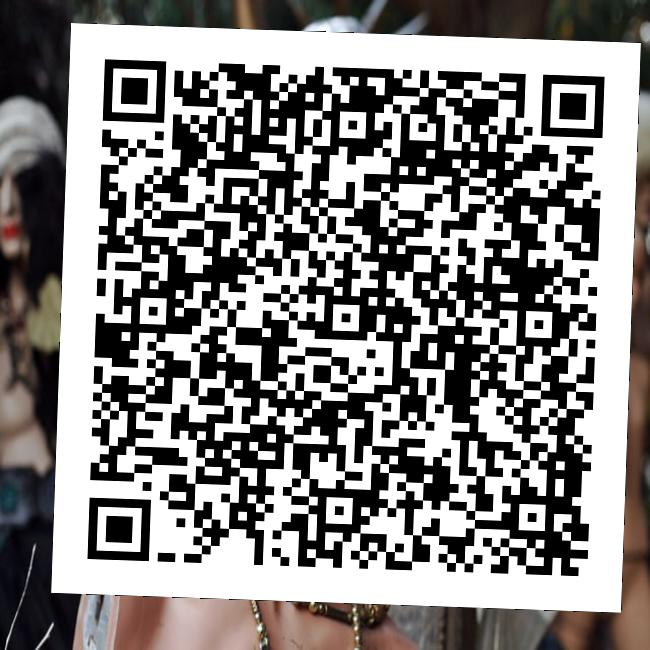qr_code: (51, 23, 640, 612)
